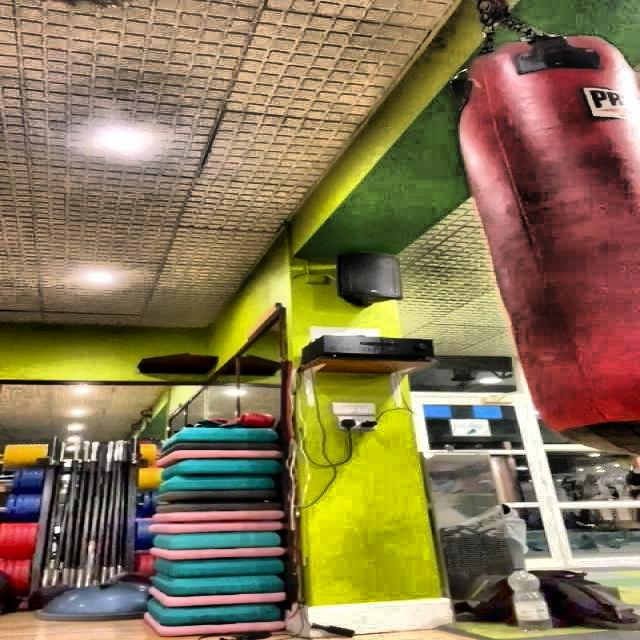boxing-bag: (452, 0, 640, 469)
